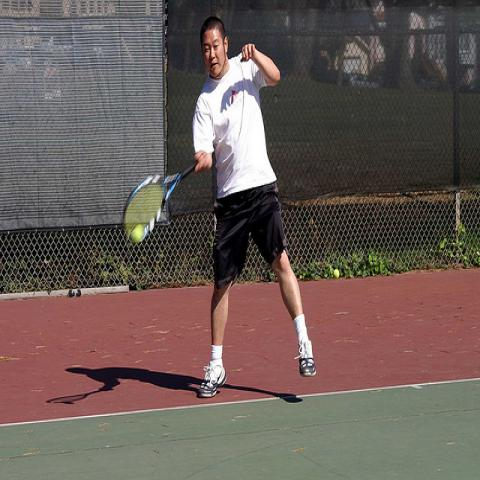car: (311, 54, 384, 89)
